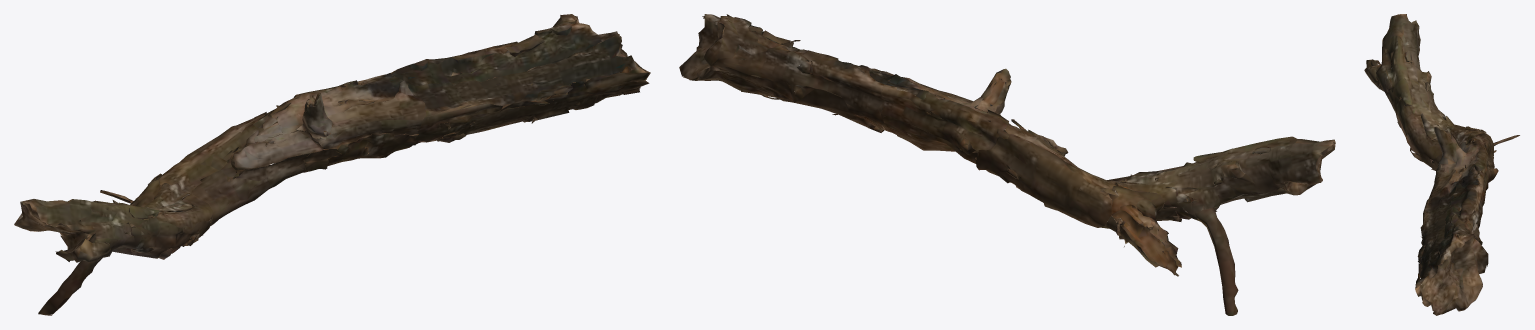
File: dead_tree.glb
3 views of the same model, side by side, from view 1: azimuth 30°, elevation 25°; view 2: azimuth 150°, elevation 25°; view 3: azimuth 270°, elevation 25° (orthographic). The views are drawn at different scales.
Parts seen in each view (by area): view 1: dead_tree; view 2: dead_tree; view 3: dead_tree.
Boxes of the visible parts, <box> form: dead_tree: <box>14,14,650,315</box>; dead_tree: <box>679,14,1335,315</box>; dead_tree: <box>1364,14,1519,315</box>.
Size of the model in its own units: 4.2 by 1.1 by 1.09.
Materials: 1 (1 with a texture image).
